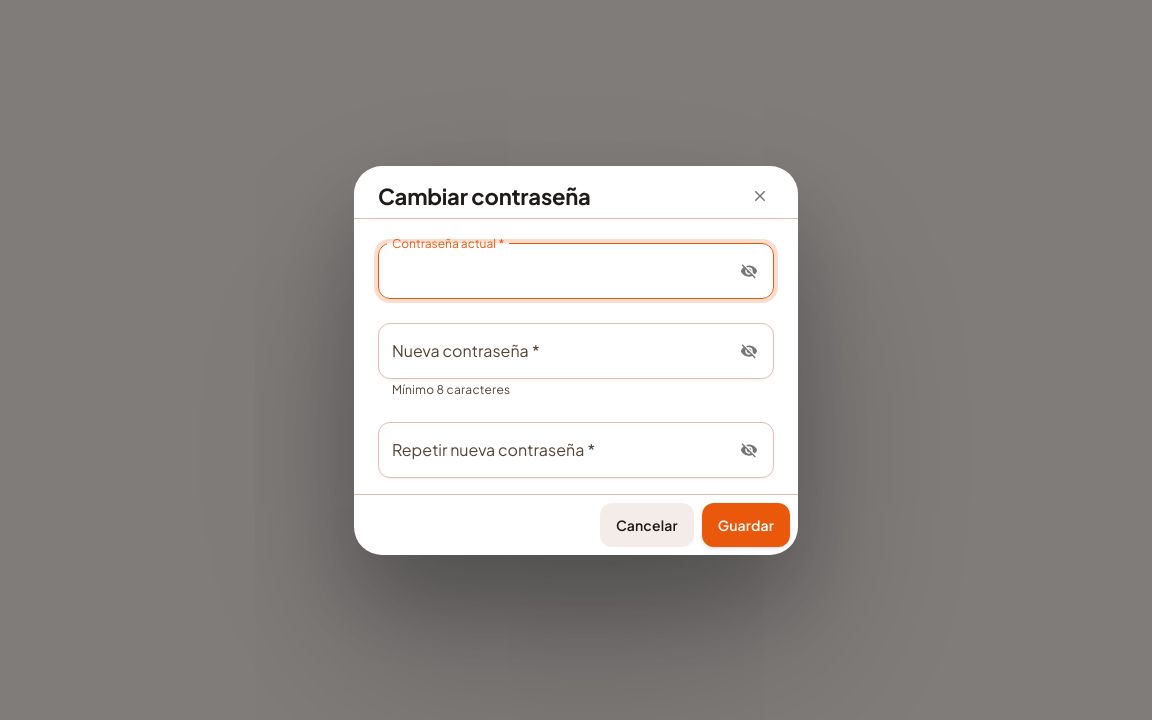
Scenario: ChangePasswordDialog › blocks submit when the new password is shorter than 8 characters
Type "old-secret" into the password field labelled "Contraseña actual *".
click(552, 270); type("old-secret")  # box [378,242,727,298]
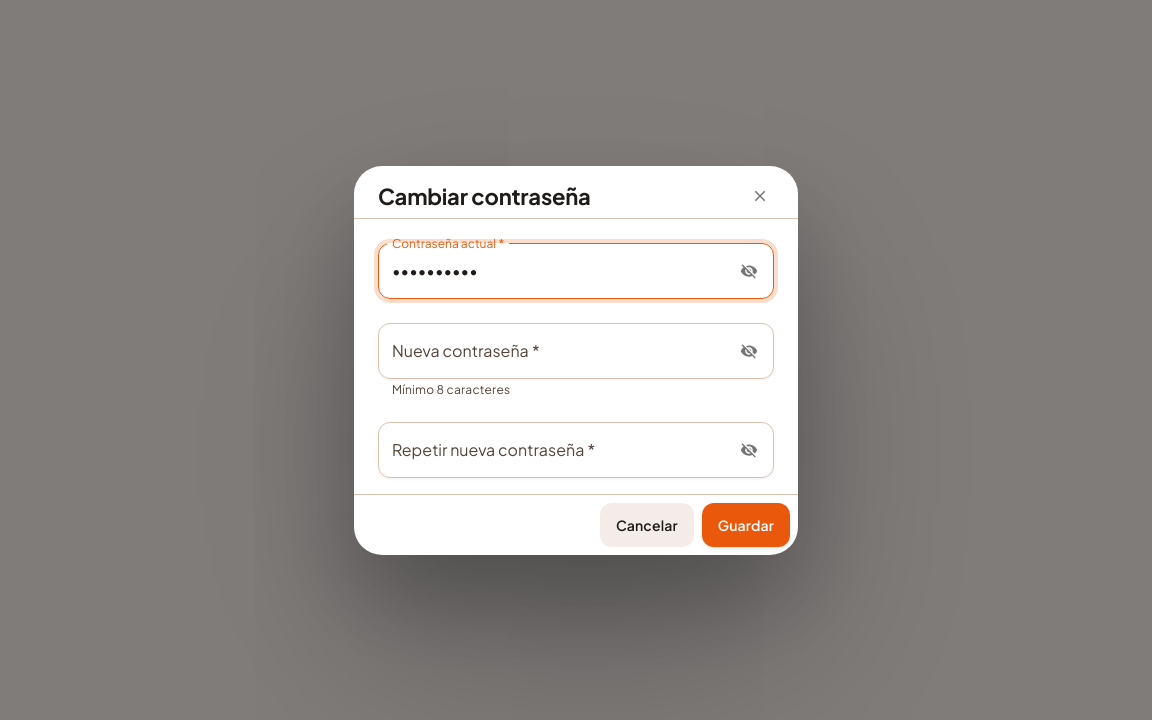
Type "short" into the password field labelled "Nueva contraseña *".
click(552, 350); type("short")  # box [378,322,727,378]
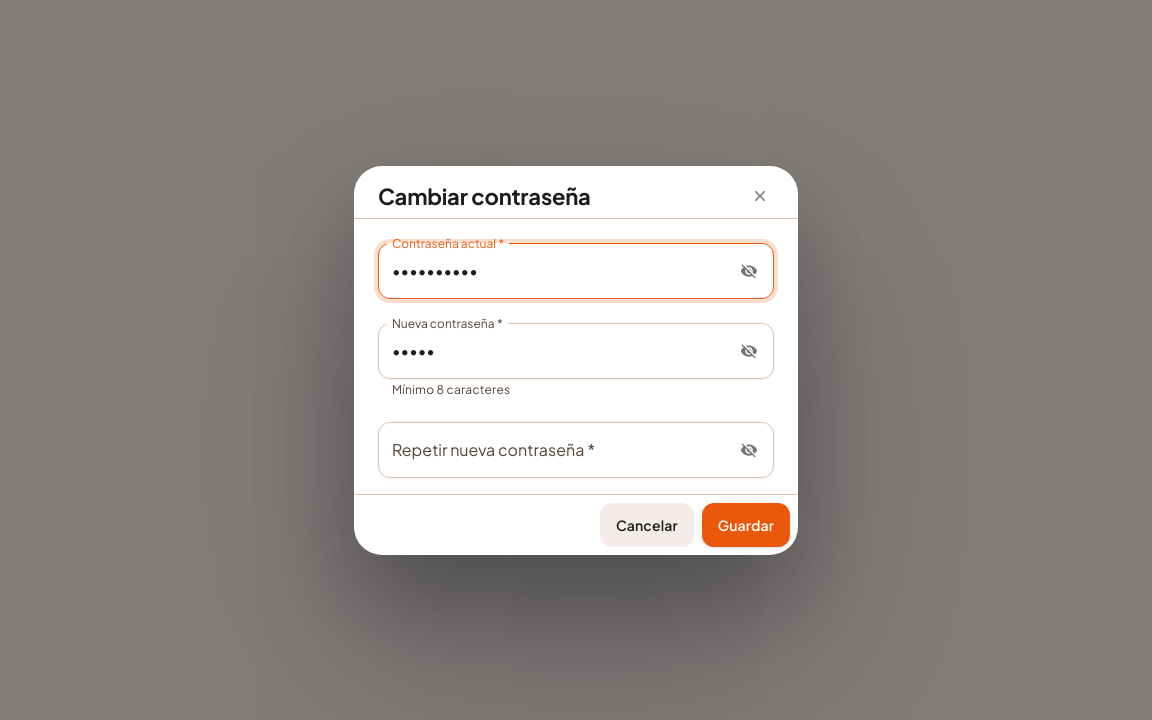
Type "short" into the password field labelled "Repetir nueva contraseña *".
click(552, 450); type("short")  # box [378,422,727,478]
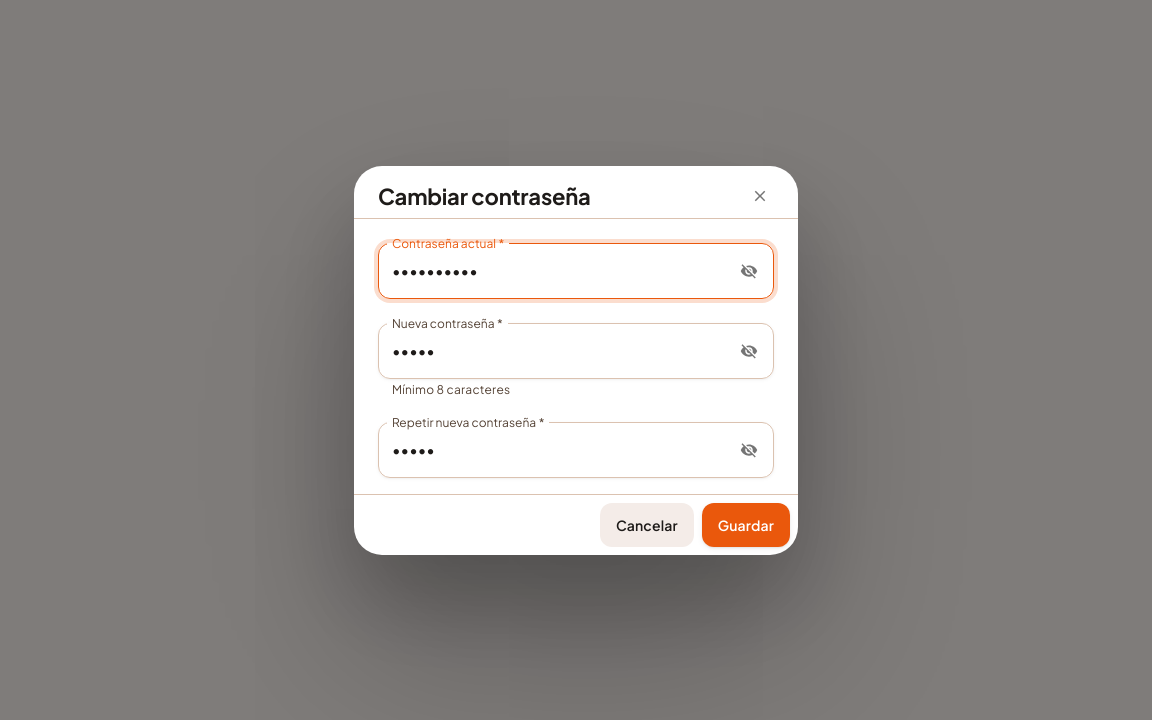
Click the button "Guardar".
click(746, 524)  # box [702,502,790,546]
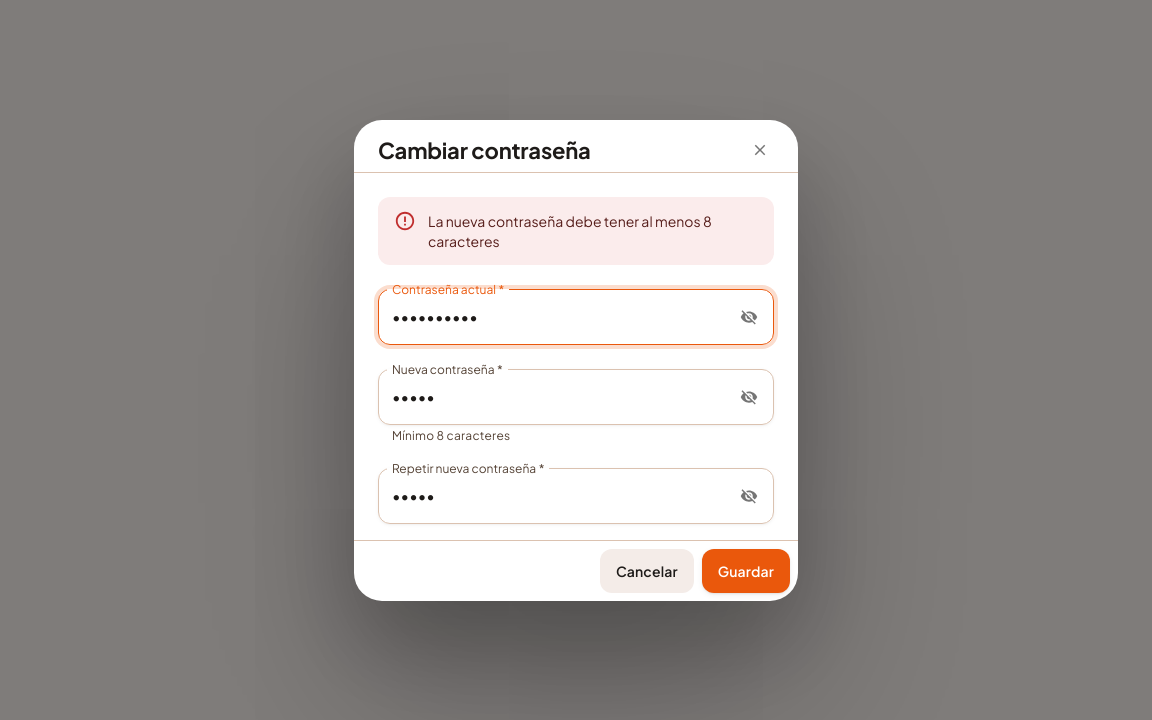
Expected: the text "La nueva contraseña debe tener al menos 8 caracteres" is shown, [428,202,758,258]
